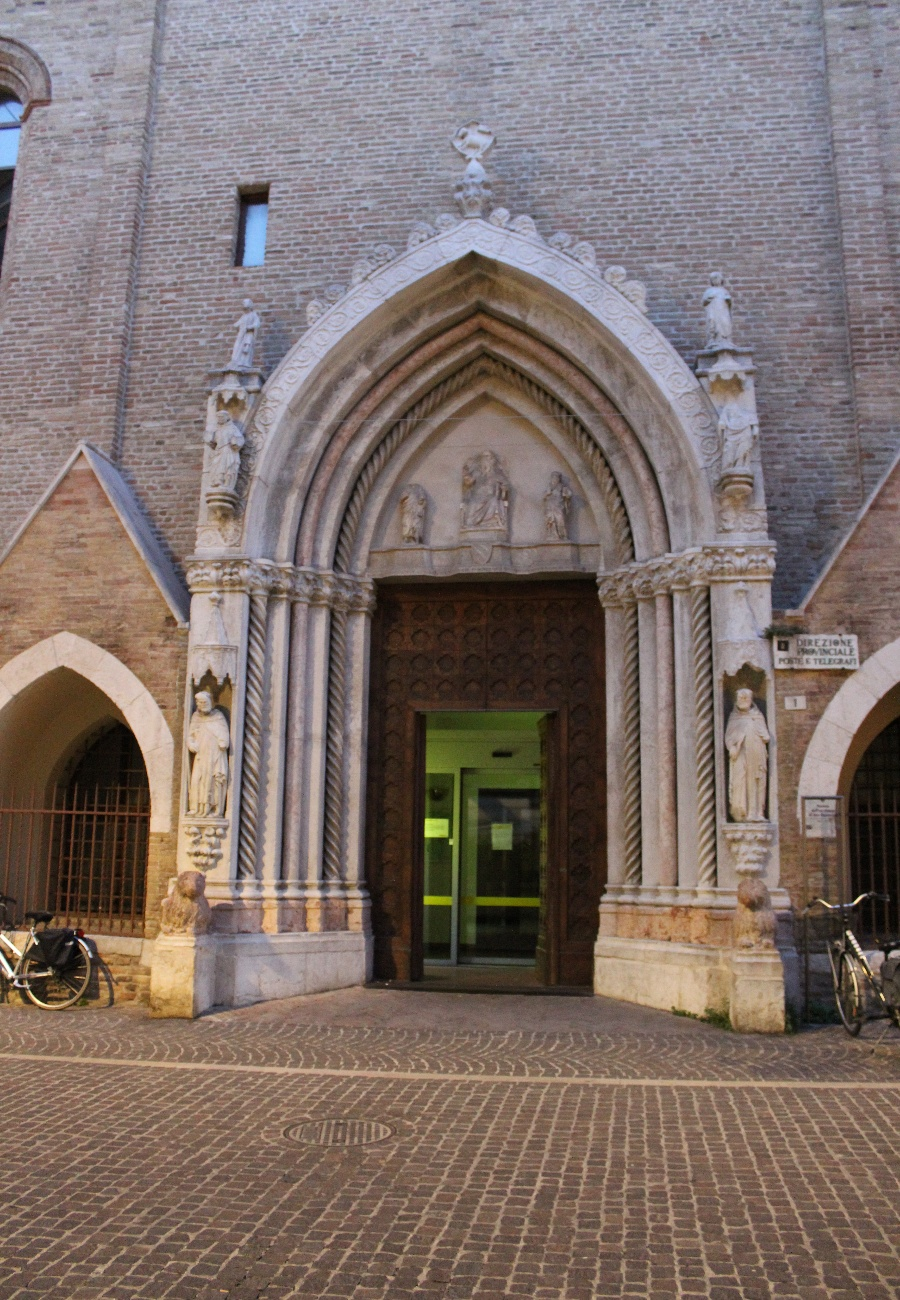Portale San Domenico: (143, 123, 784, 1010)
